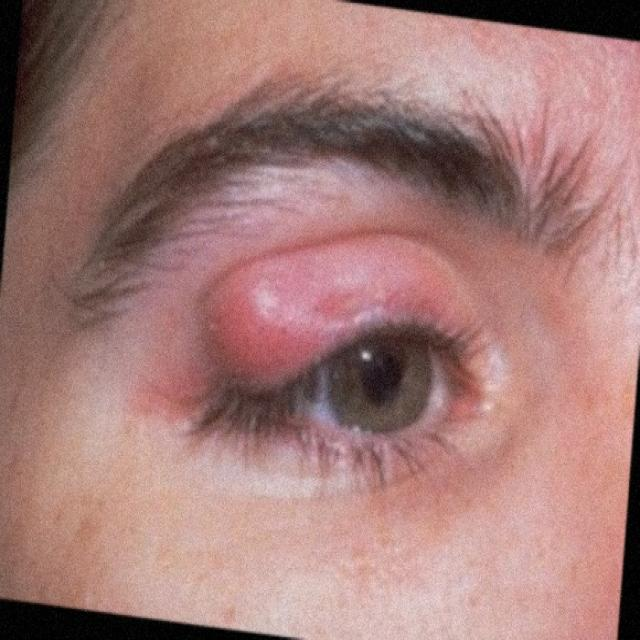Chalazion: (146, 232, 521, 482)
